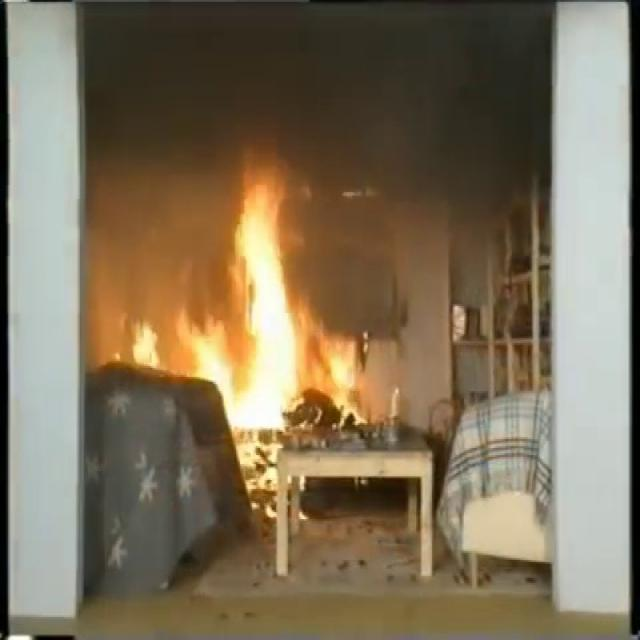Fire: (130, 146, 368, 430)
Smoke: (85, 0, 553, 228)
